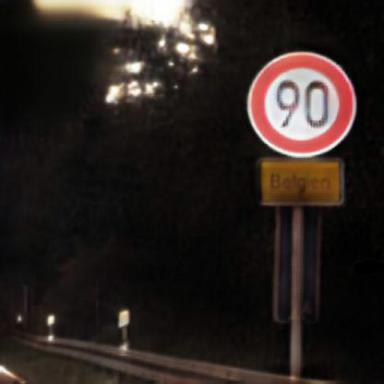Speed_limit_90: (250, 55, 358, 157)
